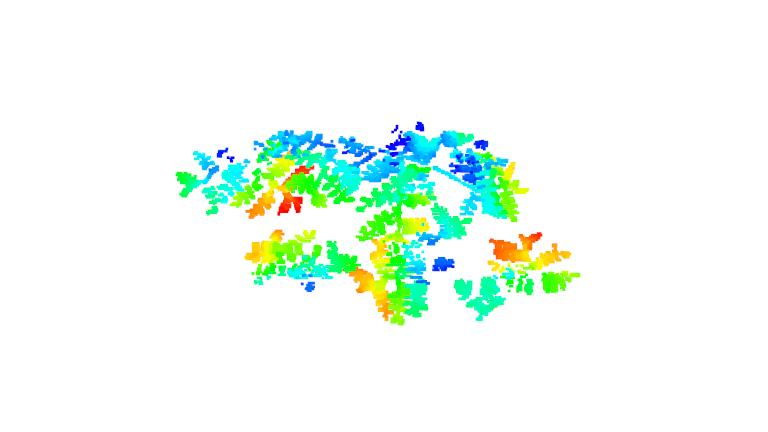chickpea: (166, 146, 311, 229), (351, 141, 466, 239), (250, 125, 362, 203), (338, 237, 426, 325), (236, 230, 335, 292), (453, 149, 534, 223), (426, 254, 512, 321), (486, 230, 577, 292)
